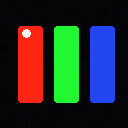0 point: (22, 29, 30, 37)
